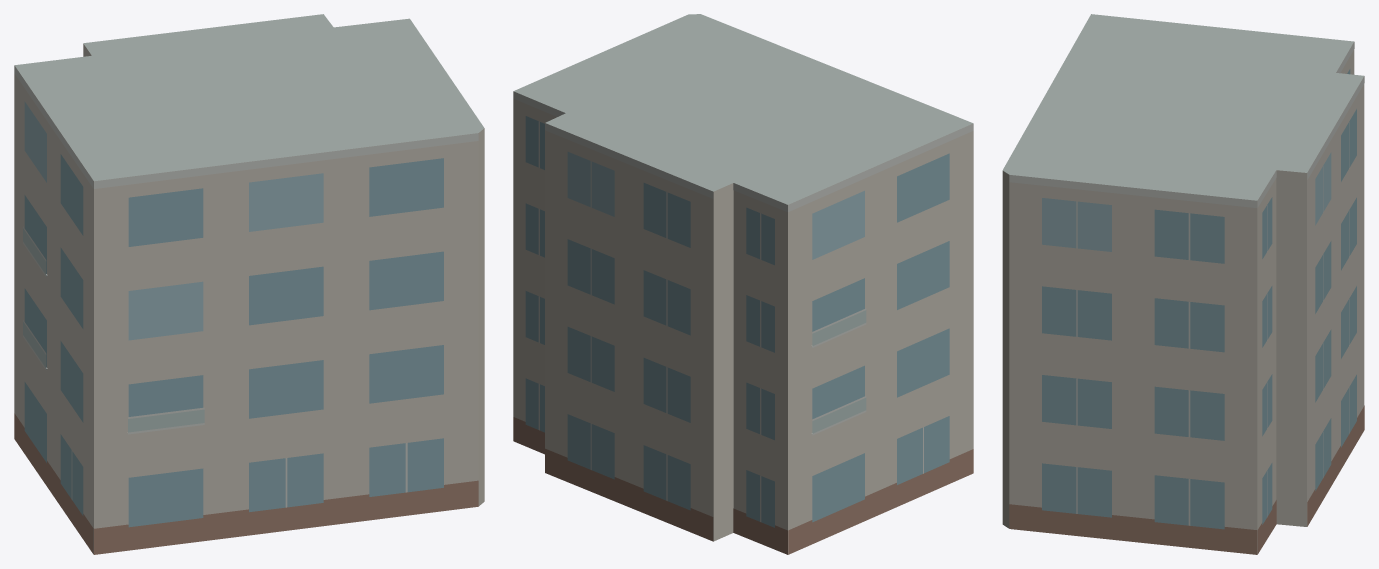
The model's file is survey-upis-32907786.glb.
3 renders of one model, left to right at view 1: azimuth 30°, elevation 25°; view 2: azimuth 150°, elevation 25°; view 3: azimuth 270°, elevation 25°, orthographic. The views are drawn at different scales.
Visible parts, largest first — view 1: survey-upis-32907786.tmp; view 2: survey-upis-32907786.tmp; view 3: survey-upis-32907786.tmp.
Boxes of the visible parts, bbox=[...] form: survey-upis-32907786.tmp: bbox=[14, 14, 484, 554]; survey-upis-32907786.tmp: bbox=[513, 14, 973, 554]; survey-upis-32907786.tmp: bbox=[1002, 14, 1364, 554].
Size of the model in its own units: 13.13 by 11.6 by 10.76.
